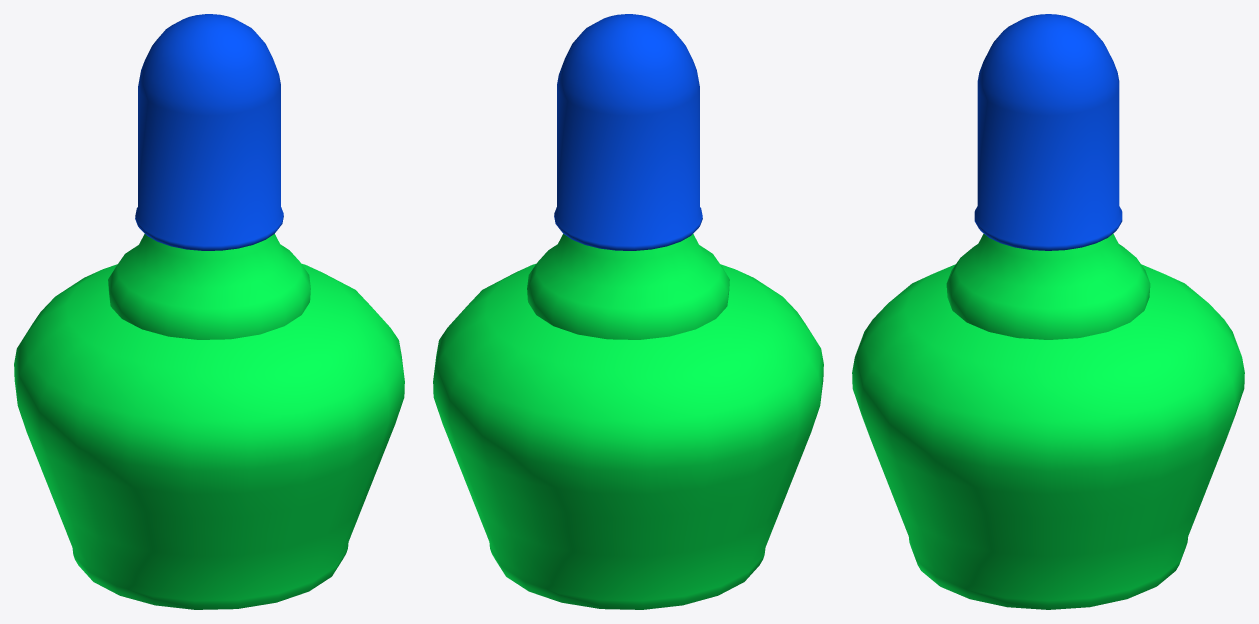
The model's file is 酒精灯.FBX.
3 renders of one model, left to right at view 1: azimuth 30°, elevation 25°; view 2: azimuth 150°, elevation 25°; view 3: azimuth 270°, elevation 25°, orthographic.
Parts seen in each view (by area): view 1: 瓶身, 瓶盖; view 2: 瓶身, 瓶盖; view 3: 瓶身, 瓶盖.
Boxes of the visible parts, bbox=[...] form: 瓶身: bbox=[14, 234, 404, 609]; 瓶盖: bbox=[135, 14, 283, 250]; 瓶身: bbox=[433, 234, 823, 609]; 瓶盖: bbox=[554, 14, 702, 250]; 瓶身: bbox=[852, 233, 1244, 609]; 瓶盖: bbox=[974, 14, 1122, 250].
Bounding box in the file's own units: 4.82 × 7.22 × 4.82.
